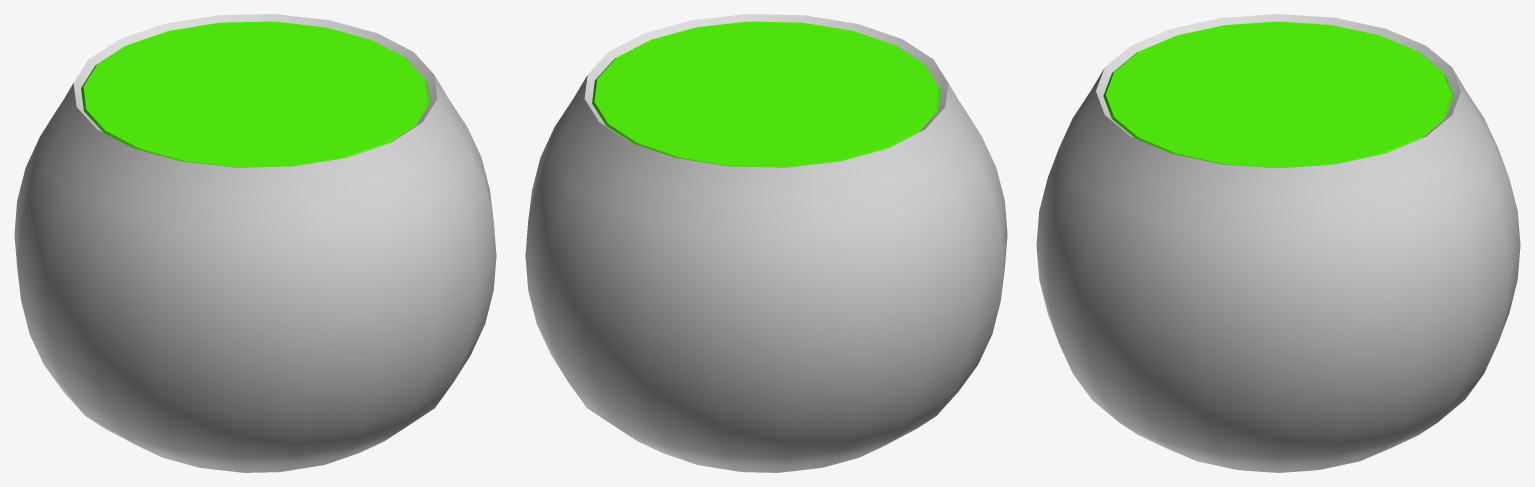
File: fishtank.fbx
3 renders of one model, left to right at view 1: azimuth 30°, elevation 25°; view 2: azimuth 150°, elevation 25°; view 3: azimuth 270°, elevation 25°, orthographic.
Visible parts, largest first — view 1: pSphere1, pSphere5; view 2: pSphere1, pSphere5; view 3: pSphere1, pSphere5.
Part boxes in pixels (box(x1,y1,x2,y2)): pSphere1: box(14, 14, 496, 472); pSphere5: box(81, 21, 429, 167); pSphere1: box(525, 14, 1007, 472); pSphere5: box(592, 21, 940, 167); pSphere1: box(1036, 14, 1520, 472); pSphere5: box(1103, 21, 1453, 168).
Bounding box in the file's own units: 2.08 × 1.62 × 2.08.
